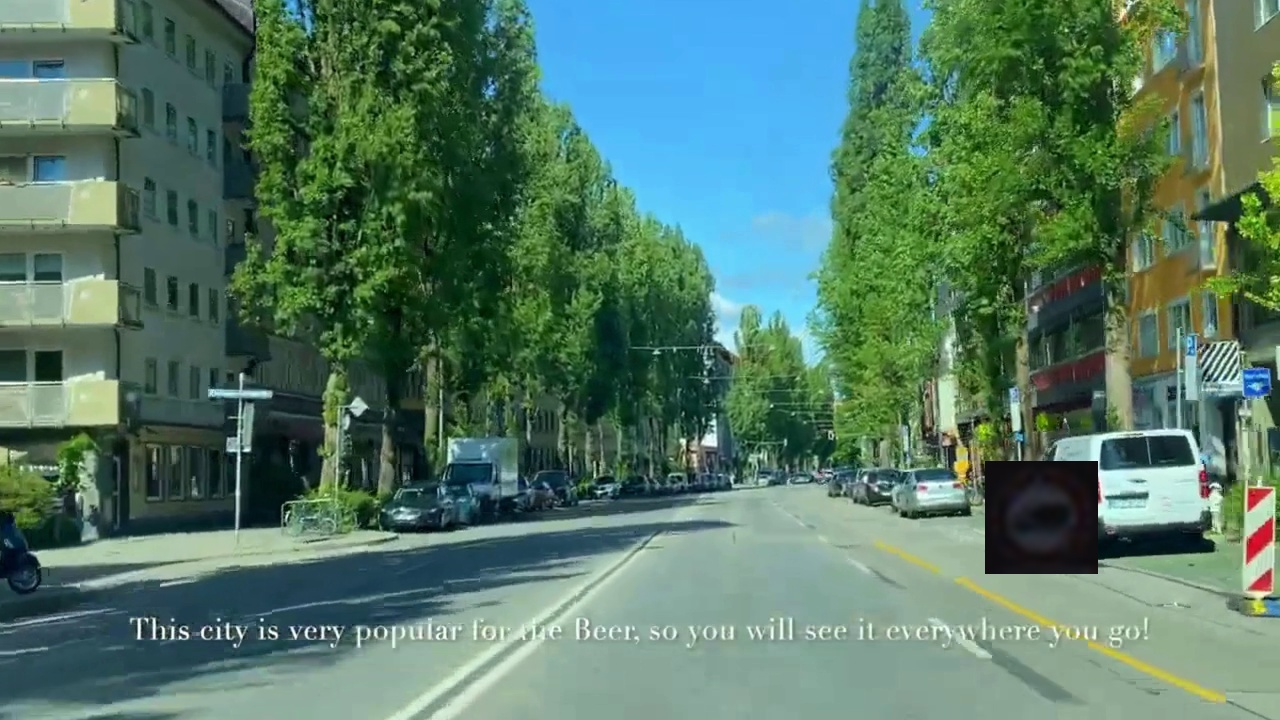Veh >3.5t prohib: (985, 461, 1098, 574)
